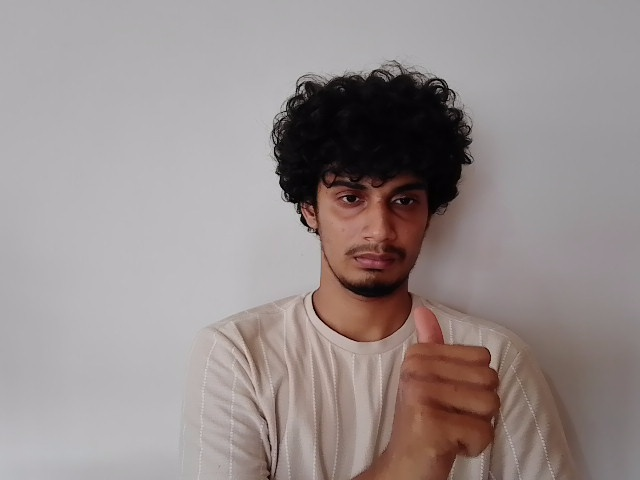how: (375, 305, 507, 480)
